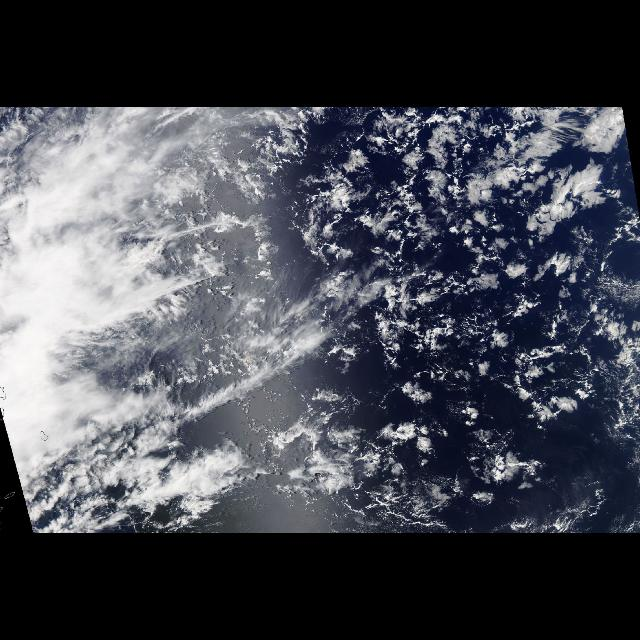Flower: (390, 124, 640, 436)
